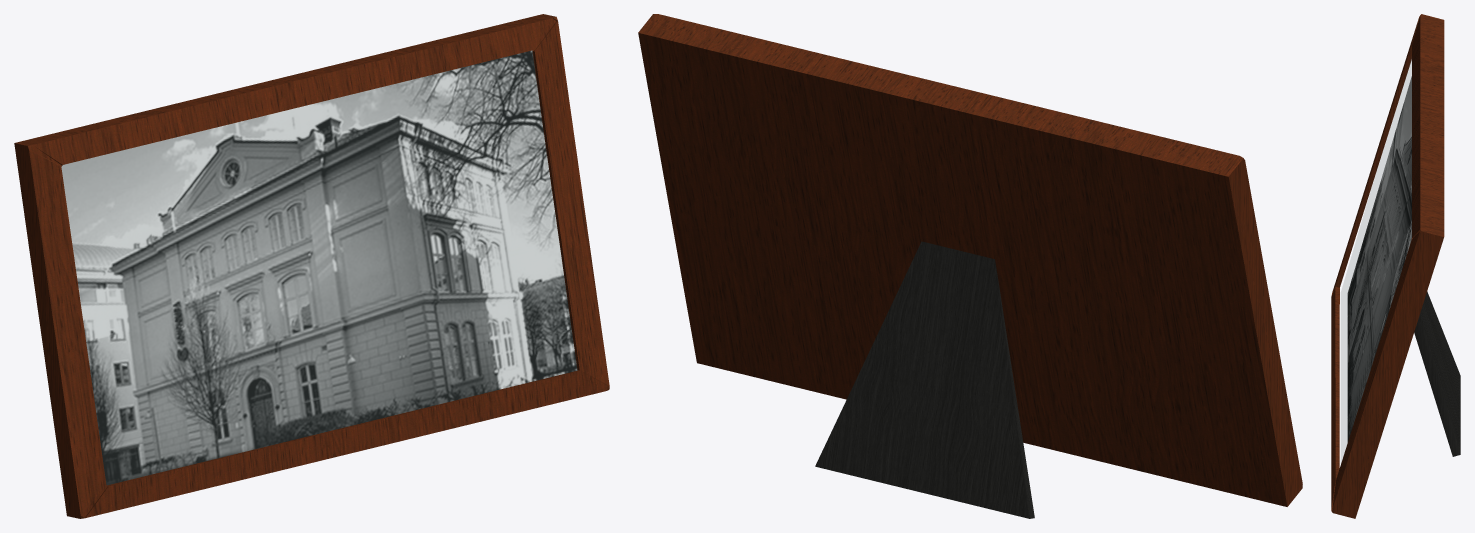
File: Cuadro.glb
The picture shows the model from 3 angles, left to right: view 1: azimuth 30°, elevation 25°; view 2: azimuth 150°, elevation 25°; view 3: azimuth 270°, elevation 25°; orthographic projection. The views are drawn at different scales.
Visible parts, largest first — view 1: e8dafdab-aa34-4b42-8163-a1d985d67893, f676971c-9eb8-4df4-ae62-a7fb2216dfe3; view 2: f676971c-9eb8-4df4-ae62-a7fb2216dfe3, e1e10369-6c17-406c-8233-2988901b13d2; view 3: f676971c-9eb8-4df4-ae62-a7fb2216dfe3, e8dafdab-aa34-4b42-8163-a1d985d67893, e1e10369-6c17-406c-8233-2988901b13d2.
Part boxes in pixels (<box>): e8dafdab-aa34-4b42-8163-a1d985d67893: <box>61,50,577,485</box>; f676971c-9eb8-4df4-ae62-a7fb2216dfe3: <box>14,14,609,518</box>; f676971c-9eb8-4df4-ae62-a7fb2216dfe3: <box>638,14,1302,506</box>; e1e10369-6c17-406c-8233-2988901b13d2: <box>815,241,1034,518</box>; f676971c-9eb8-4df4-ae62-a7fb2216dfe3: <box>1331,14,1444,518</box>; e8dafdab-aa34-4b42-8163-a1d985d67893: <box>1347,76,1411,442</box>; e1e10369-6c17-406c-8233-2988901b13d2: <box>1414,291,1460,456</box>.
Bounding box in the file's own units: 0.2774 × 0.1756 × 0.0697.
Materials: 4 (4 with a texture image).
